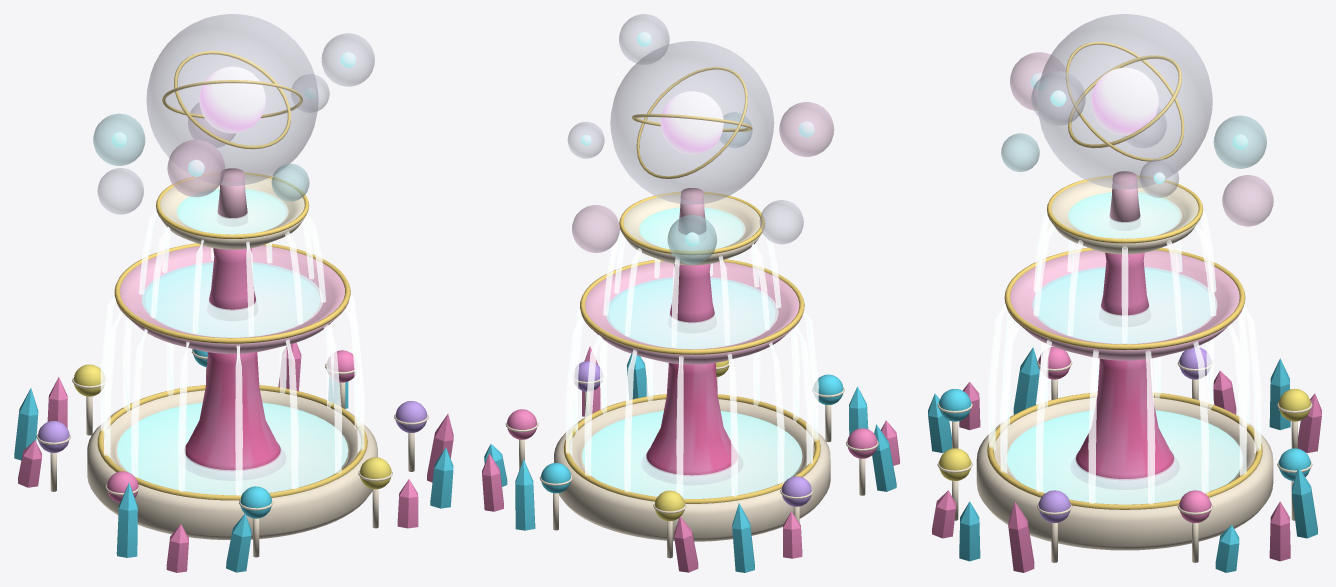
File: bg_fountain.glb
3 views of the same model, side by side, from view 1: azimuth 30°, elevation 25°; view 2: azimuth 150°, elevation 25°; view 3: azimuth 270°, elevation 25° (orthographic). The views are drawn at different scales.
Parts seen in each view (by area): view 1: M_Fountain__f_glass, M_Fountain__f_water, M_Fountain__f_cream, M_Fountain__f_wfall, M_Fountain__f_pink, M_Fountain__f_gold, M_Fountain__f_pinkl, M_Fountain__fc1, M_Fountain__fc0, M_Fountain__f_core, M_Fountain__f_glass2, M_Fountain__f_glass3 (+5 smaller); view 2: M_Fountain__f_glass, M_Fountain__f_water, M_Fountain__f_cream, M_Fountain__f_wfall, M_Fountain__f_pink, M_Fountain__f_gold, M_Fountain__f_pinkl, M_Fountain__fc0, M_Fountain__f_glass2, M_Fountain__fc1, M_Fountain__f_core, M_Fountain__f_glass3 (+5 smaller); view 3: M_Fountain__f_water, M_Fountain__f_glass, M_Fountain__f_cream, M_Fountain__f_wfall, M_Fountain__f_pink, M_Fountain__f_gold, M_Fountain__f_pinkl, M_Fountain__fc0, M_Fountain__fc1, M_Fountain__f_glass2, M_Fountain__f_core, M_Fountain__f_glass3 (+5 smaller).
Boxes of the visible parts, x1=… form: M_Fountain__f_glass: x1=97, y1=14, x2=374, y2=214; M_Fountain__f_water: x1=117, y1=188, x2=348, y2=495; M_Fountain__f_cream: x1=36, y1=174, x2=428, y2=557; M_Fountain__f_wfall: x1=100, y1=210, x2=364, y2=496; M_Fountain__f_pink: x1=184, y1=248, x2=281, y2=471; M_Fountain__f_gold: x1=97, y1=50, x2=367, y2=500; M_Fountain__f_pinkl: x1=116, y1=168, x2=348, y2=353; M_Fountain__fc1: x1=18, y1=342, x2=453, y2=572; M_Fountain__fc0: x1=14, y1=377, x2=453, y2=572; M_Fountain__f_core: x1=199, y1=66, x2=265, y2=133; M_Fountain__f_glass2: x1=167, y1=103, x2=235, y2=197; M_Fountain__f_glass3: x1=93, y1=113, x2=309, y2=201; M_Fountain__f_glass: x1=567, y1=14, x2=803, y2=244; M_Fountain__f_water: x1=582, y1=207, x2=802, y2=498; M_Fountain__f_cream: x1=505, y1=193, x2=878, y2=558; M_Fountain__f_wfall: x1=565, y1=229, x2=818, y2=497; M_Fountain__f_pink: x1=646, y1=264, x2=738, y2=476; M_Fountain__f_gold: x1=563, y1=67, x2=820, y2=503; M_Fountain__f_pinkl: x1=581, y1=188, x2=802, y2=364; M_Fountain__fc0: x1=484, y1=354, x2=896, y2=572; M_Fountain__f_glass2: x1=572, y1=102, x2=834, y2=252; M_Fountain__fc1: x1=482, y1=346, x2=899, y2=572; M_Fountain__f_core: x1=660, y1=91, x2=723, y2=154; M_Fountain__f_glass3: x1=667, y1=112, x2=752, y2=264; M_Fountain__f_water: x1=1007, y1=192, x2=1242, y2=504; M_Fountain__f_glass: x1=1031, y1=14, x2=1212, y2=197; M_Fountain__f_cream: x1=937, y1=177, x2=1312, y2=562; M_Fountain__f_wfall: x1=988, y1=211, x2=1261, y2=504; M_Fountain__f_pink: x1=1075, y1=252, x2=1174, y2=480; M_Fountain__f_gold: x1=987, y1=41, x2=1262, y2=509; M_Fountain__f_pinkl: x1=1006, y1=171, x2=1243, y2=360; M_Fountain__fc0: x1=928, y1=347, x2=1317, y2=572; M_Fountain__fc1: x1=932, y1=371, x2=1321, y2=572; M_Fountain__f_glass2: x1=1010, y1=52, x2=1273, y2=226; M_Fountain__f_core: x1=1091, y1=67, x2=1158, y2=135; M_Fountain__f_glass3: x1=1001, y1=115, x2=1266, y2=171.
Size of the model in its own units: 7.16 by 9.43 by 7.18.
